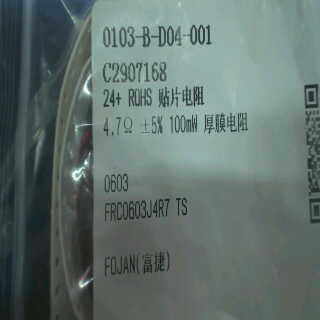4.7R: (95, 111, 139, 144)
